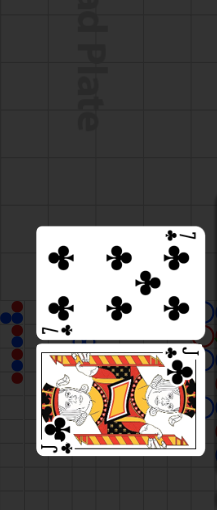7C: (163, 229, 198, 243)
JC: (40, 441, 75, 456)
